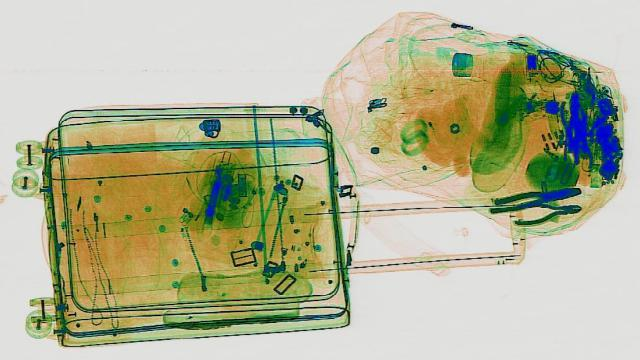Pliers: (480, 180, 584, 214), (559, 92, 593, 163), (506, 196, 586, 223)
